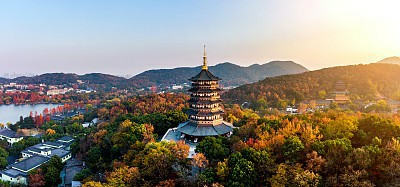Leifeng: (177, 44, 233, 147)
